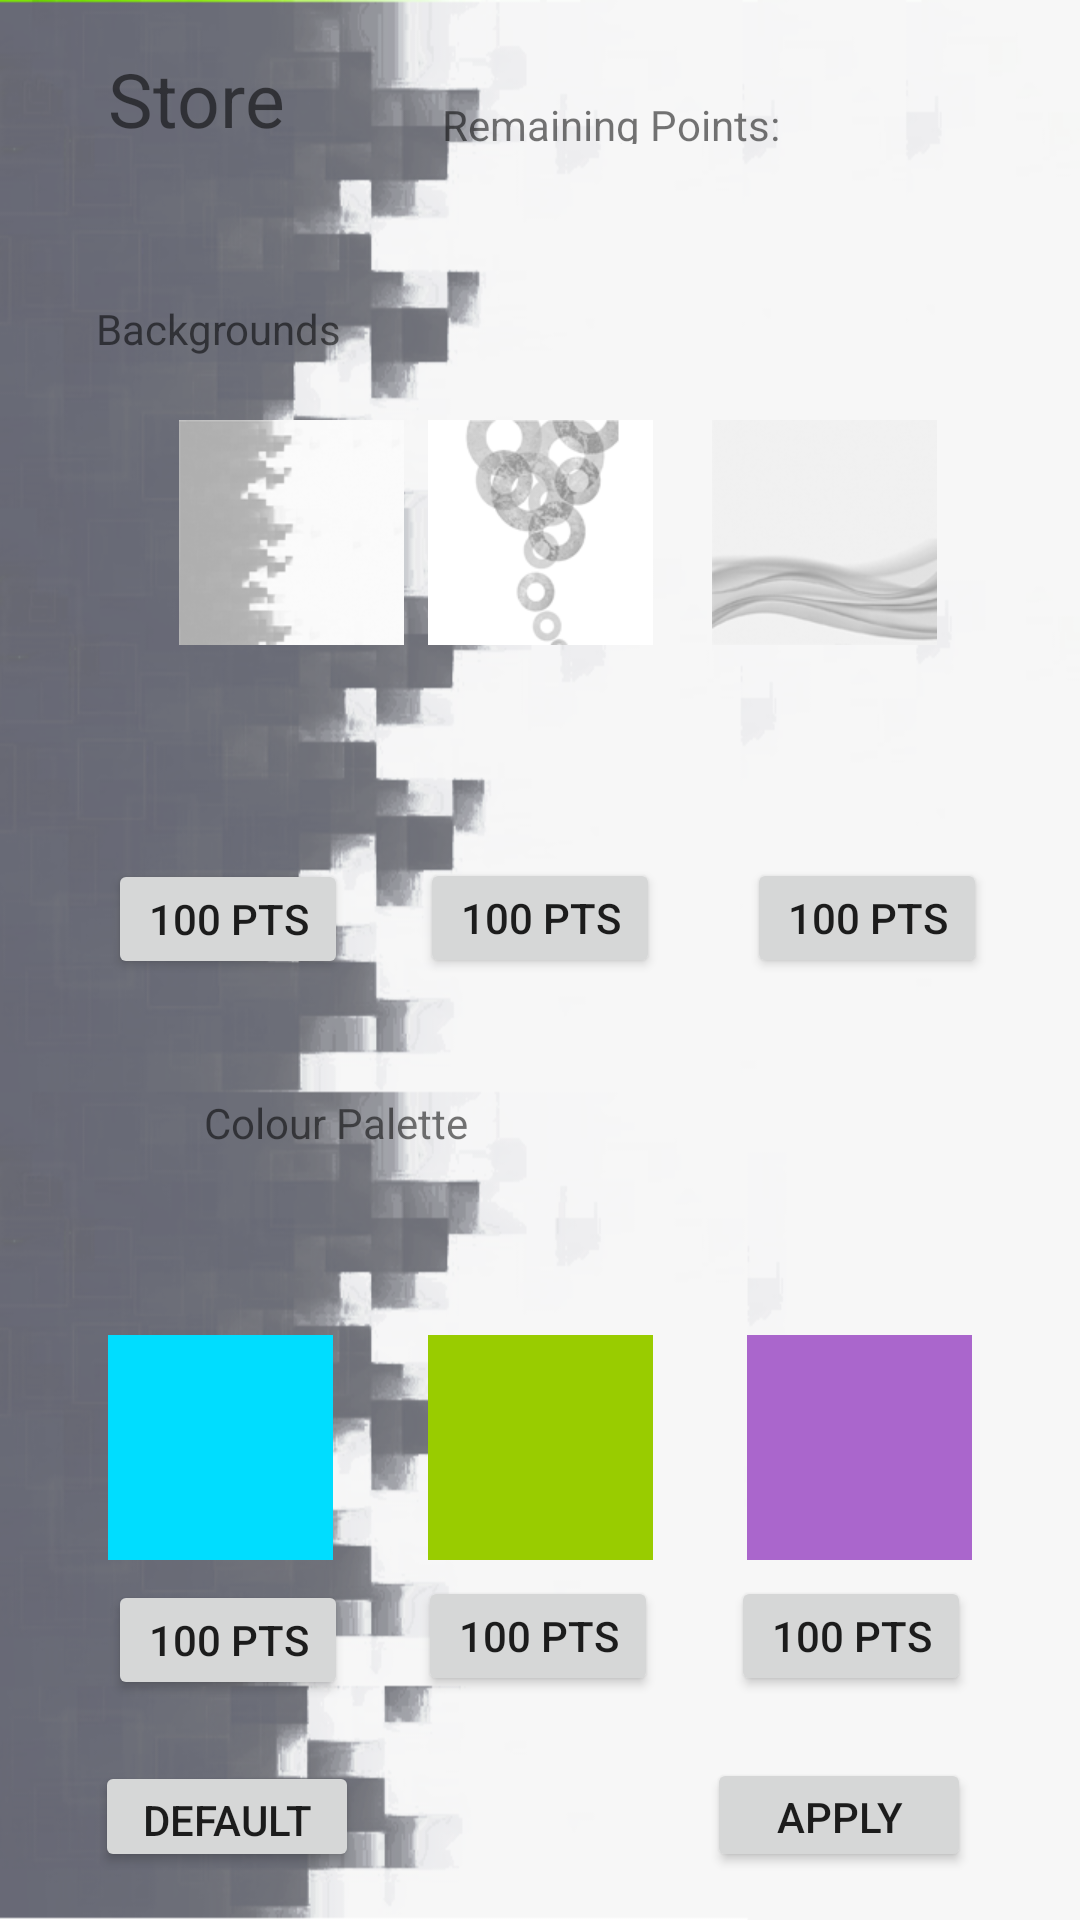

Icons on this 1080 x 1920 Android screen, each with the point to tap as point (x, y):
box capture: point (291, 532)
circle capture: point (540, 532)
